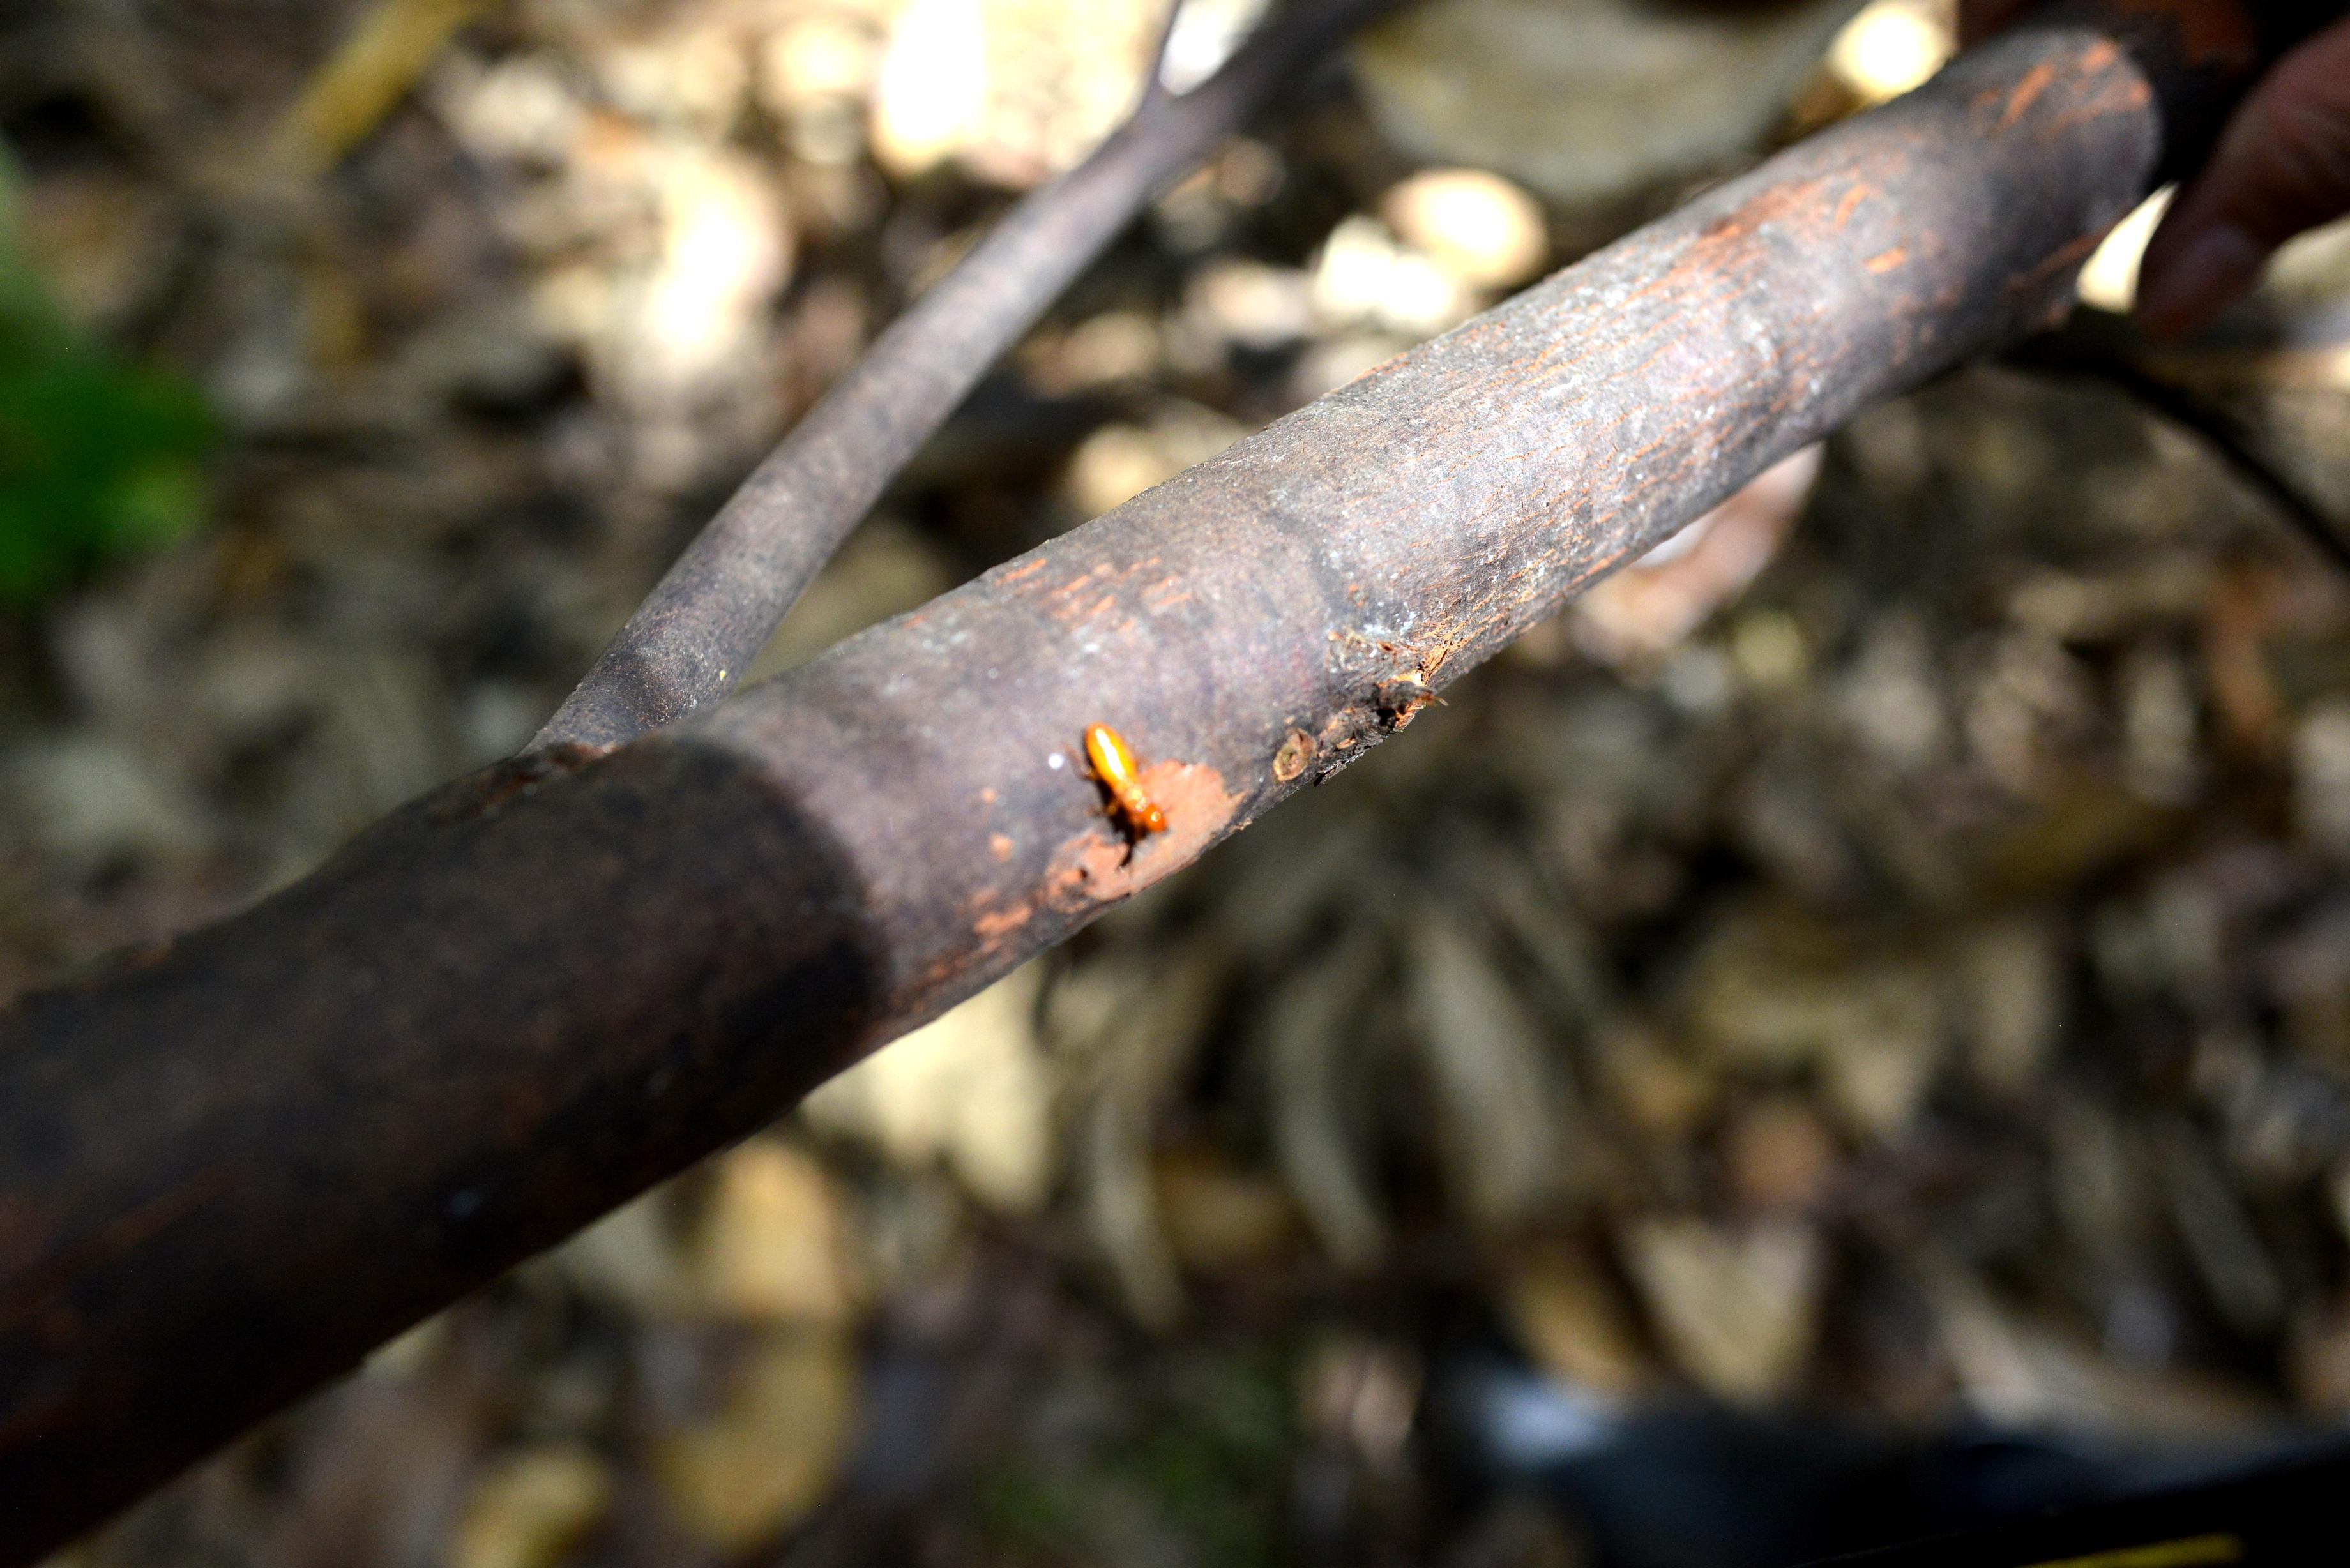Termite: (1067, 716, 1176, 859)
